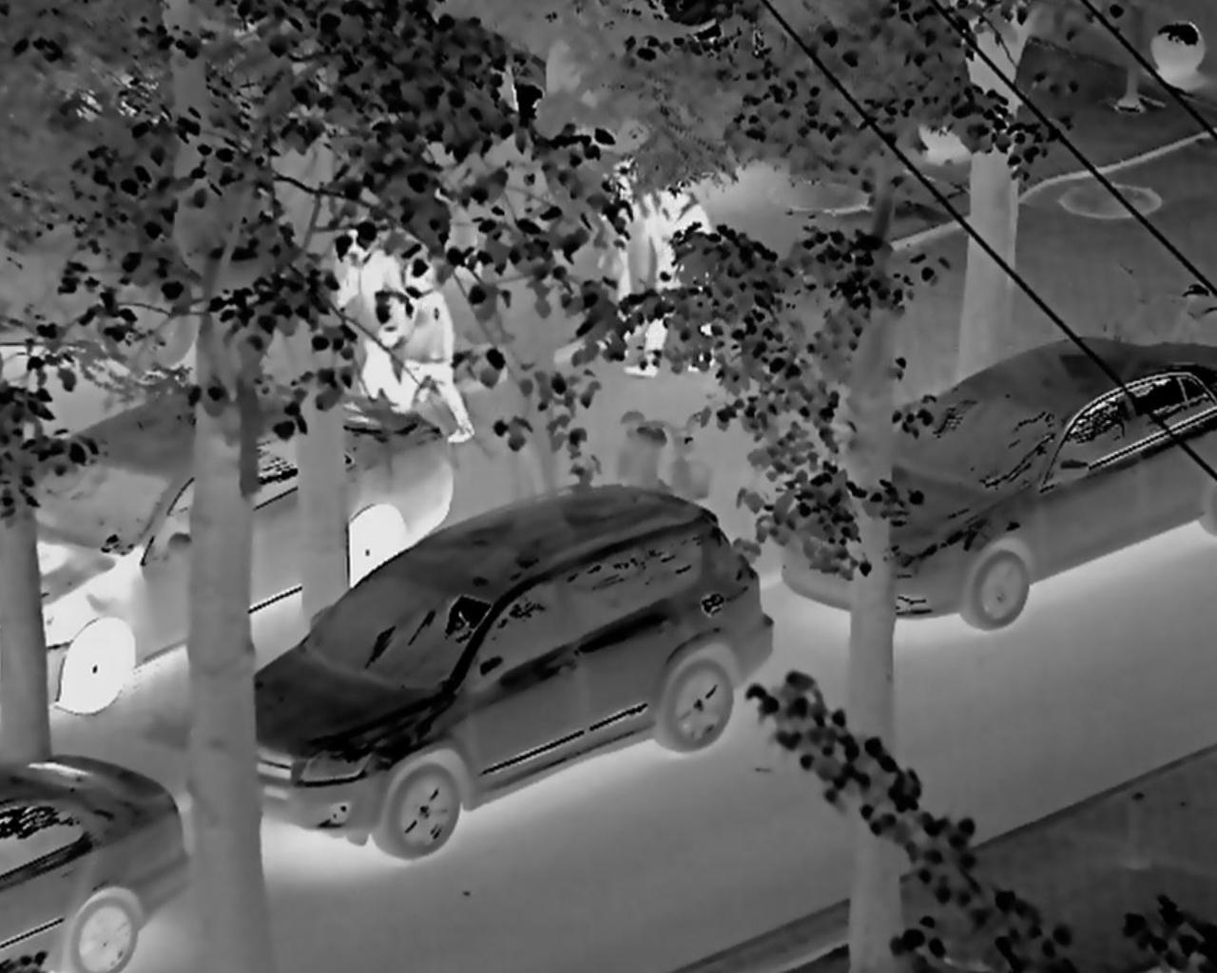person: (314, 205, 405, 408), (391, 254, 466, 446), (645, 176, 721, 359), (599, 146, 658, 355)
